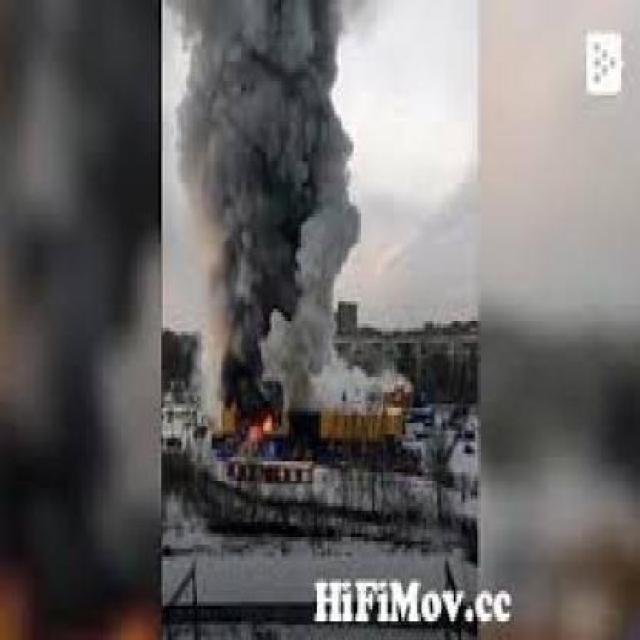Fire: (261, 409, 274, 438)
